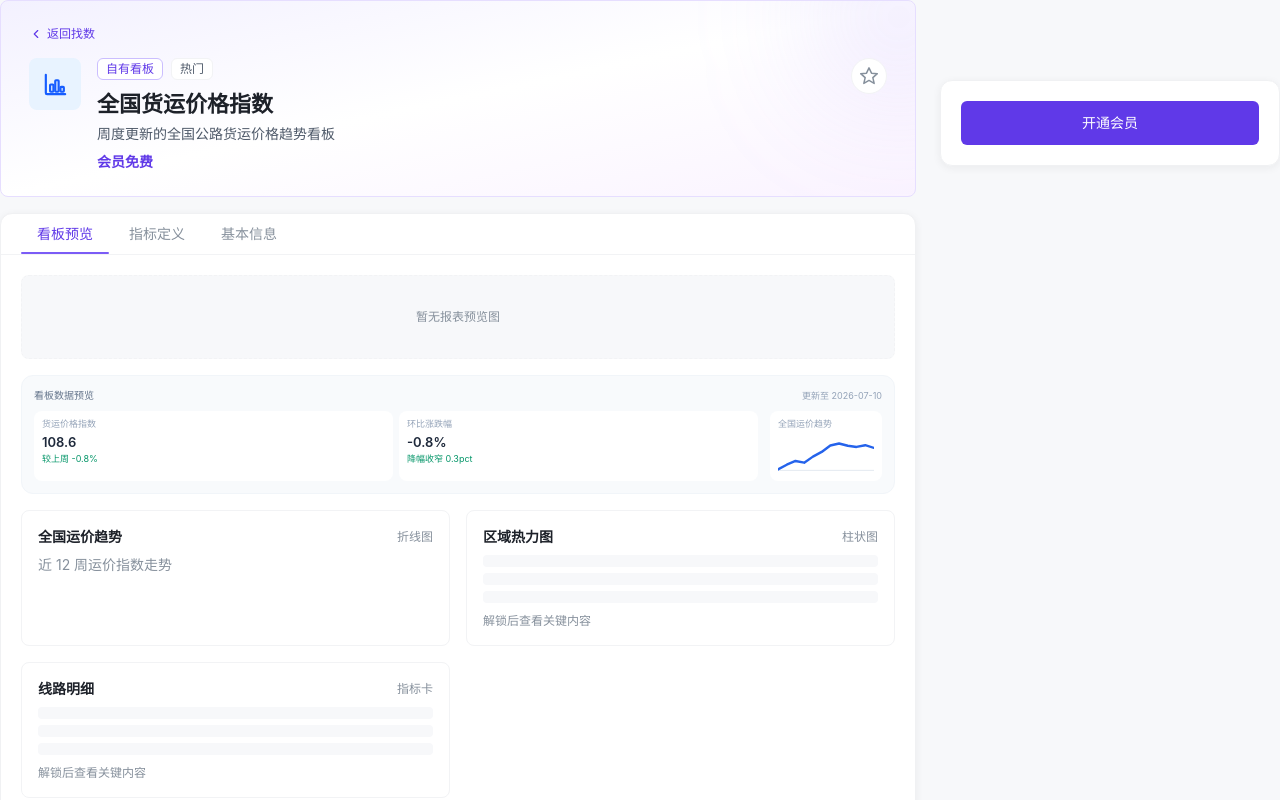
Test: PortalProductDetail owned dashboard basic information › shows four dashboard facts, seven resource facts, and the manual
Step 1. Click the button "基本信息" → {"x": 249, "y": 234}, box [205, 214, 293, 254]
(page scrolled)
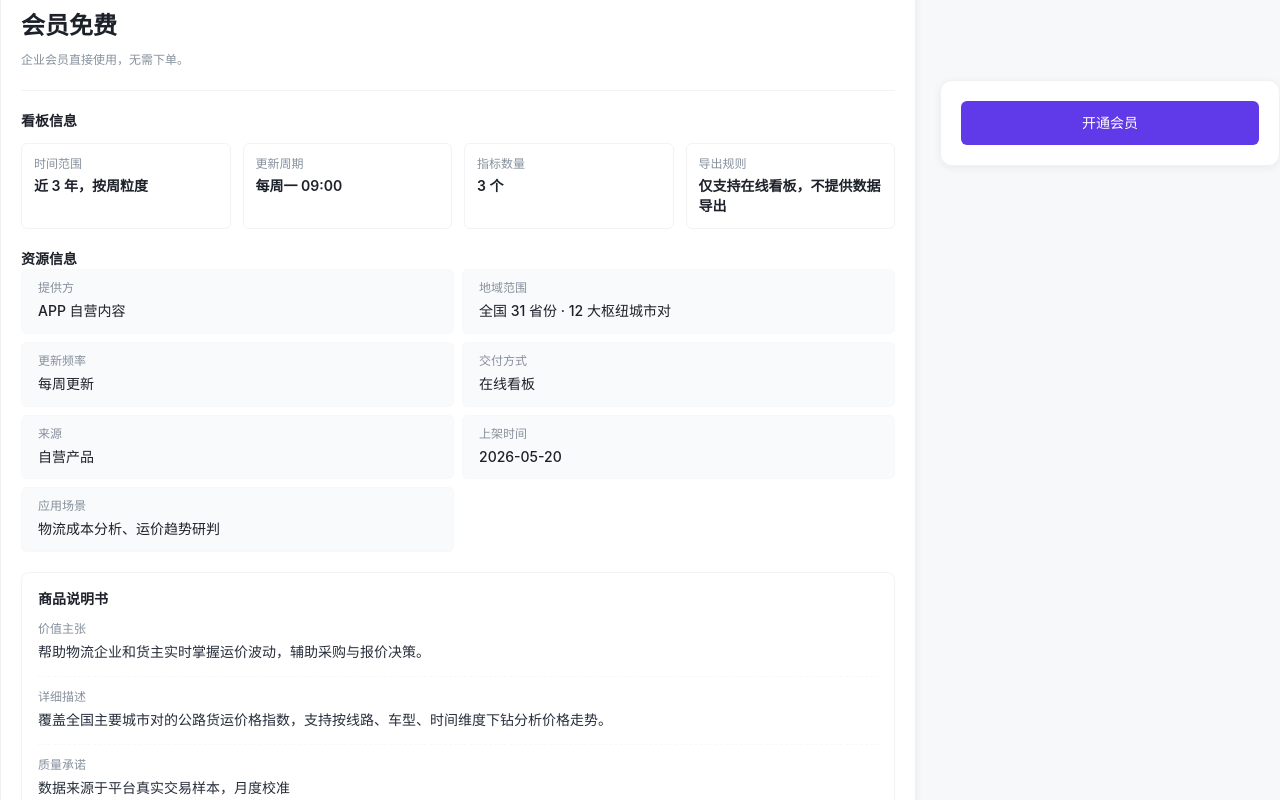
Result: the element with test id "dashboard-overview-info" shows "时间范围" at [34, 156, 82, 171]
Result: the element with test id "dashboard-overview-info" shows "更新周期" at [256, 156, 304, 171]
Result: the element with test id "dashboard-overview-info" shows "指标数量" at [477, 156, 525, 171]
